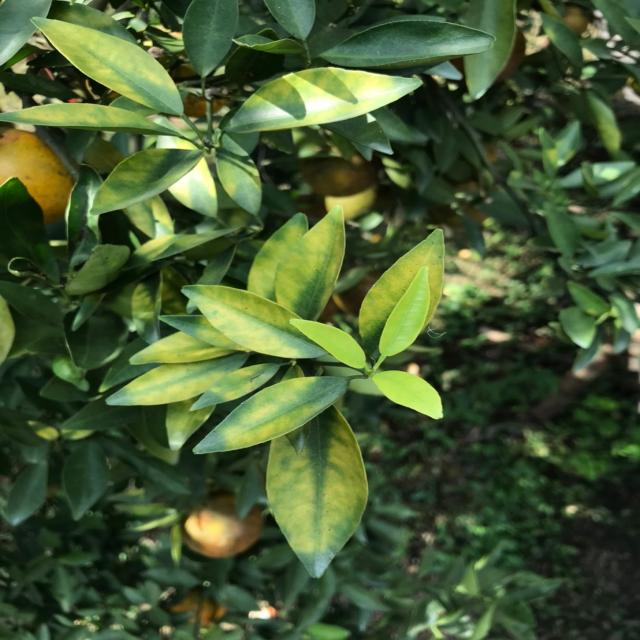greening: (261, 419, 369, 571), (56, 24, 178, 98), (202, 284, 314, 360), (276, 215, 351, 308), (104, 366, 241, 399)
